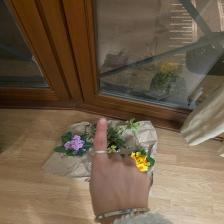one: (87, 118, 155, 220)
